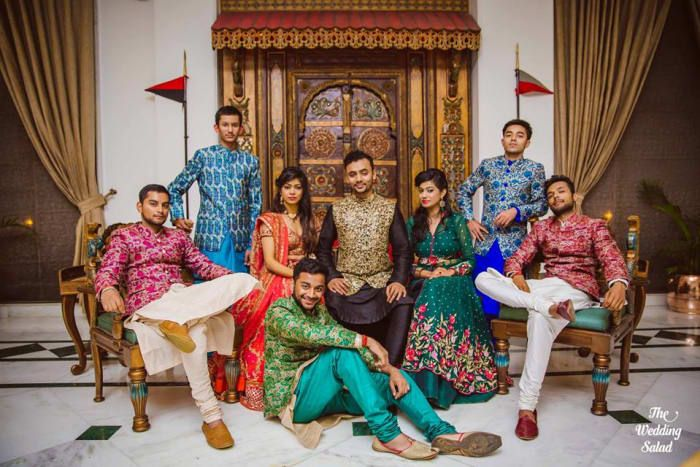men: (283, 256, 336, 309), (124, 181, 174, 233), (487, 118, 539, 164), (340, 147, 384, 197), (536, 172, 582, 218), (209, 101, 247, 151)
women: (409, 168, 460, 218), (266, 164, 311, 209)
